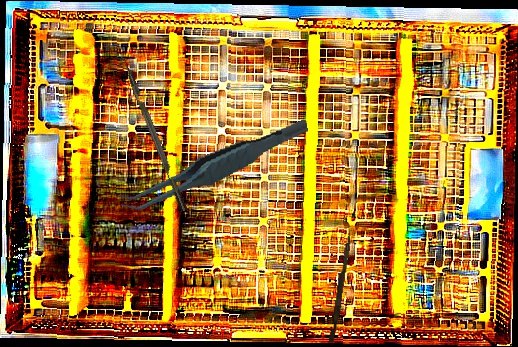Chopper: (111, 49, 188, 216)
Pusher: (328, 229, 353, 343)
Tissue Forceps: (111, 117, 317, 215)
